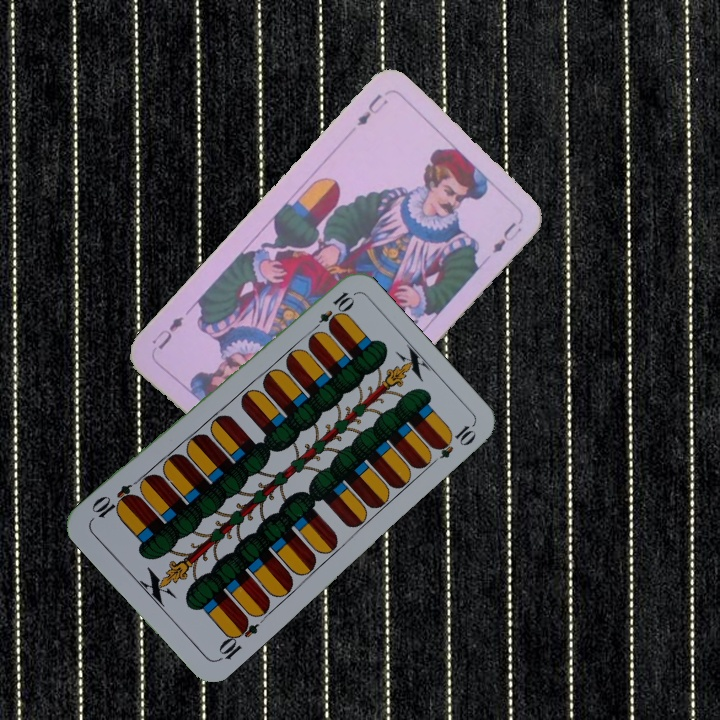E10: (213, 613, 261, 664), (307, 287, 356, 336)
EU: (353, 90, 391, 129)
